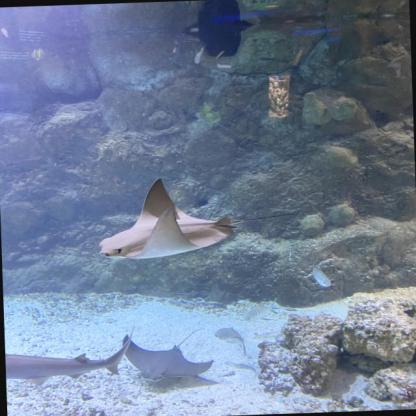fish: (214, 326, 245, 358), (242, 298, 279, 322), (310, 265, 332, 287)
shark: (5, 324, 137, 388)
stingray: (95, 176, 234, 260), (121, 331, 214, 383)
